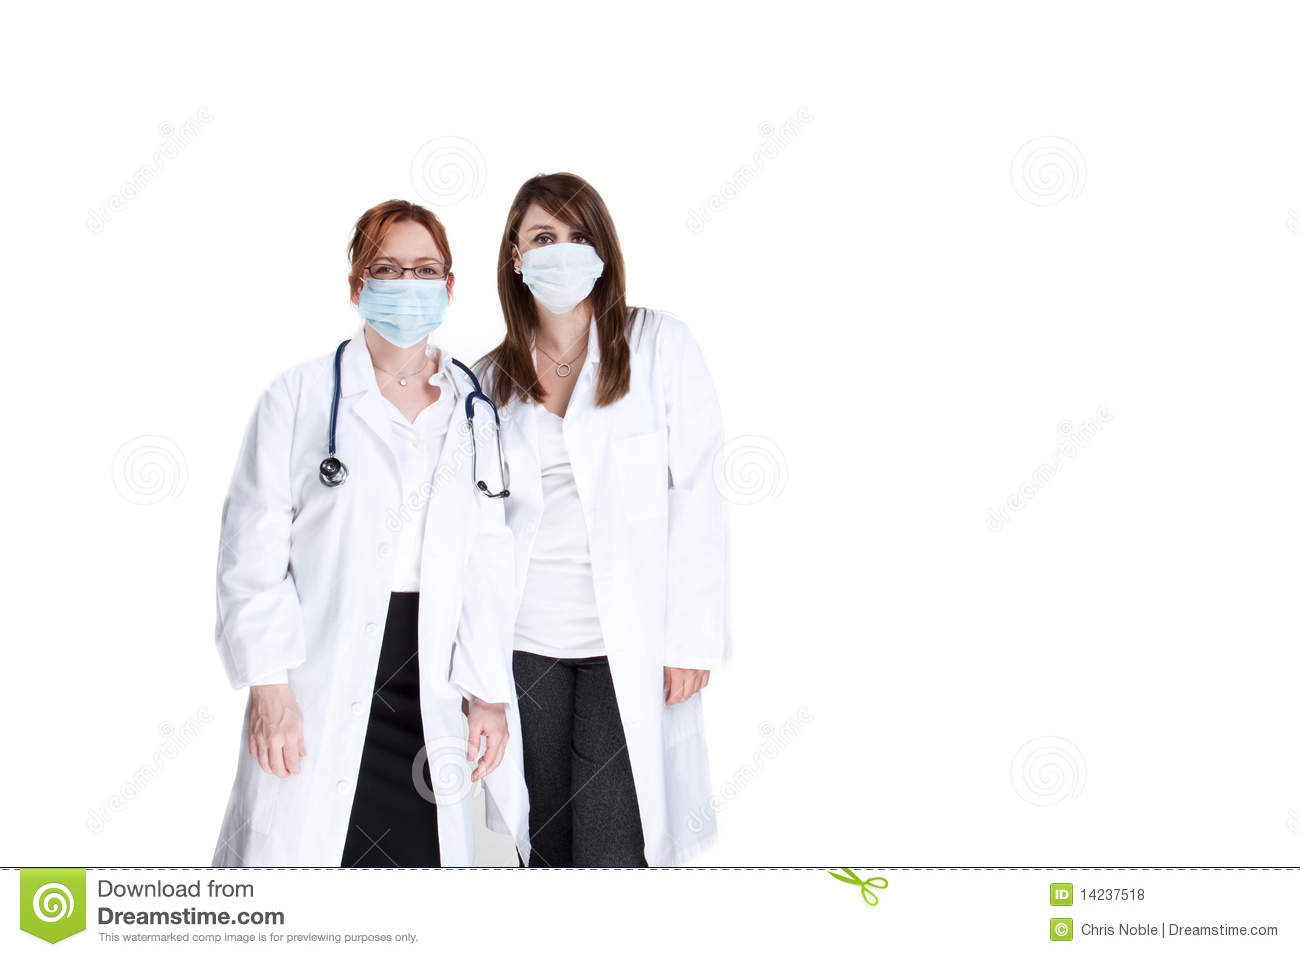mask: (354, 267, 457, 363), (514, 241, 606, 316)
